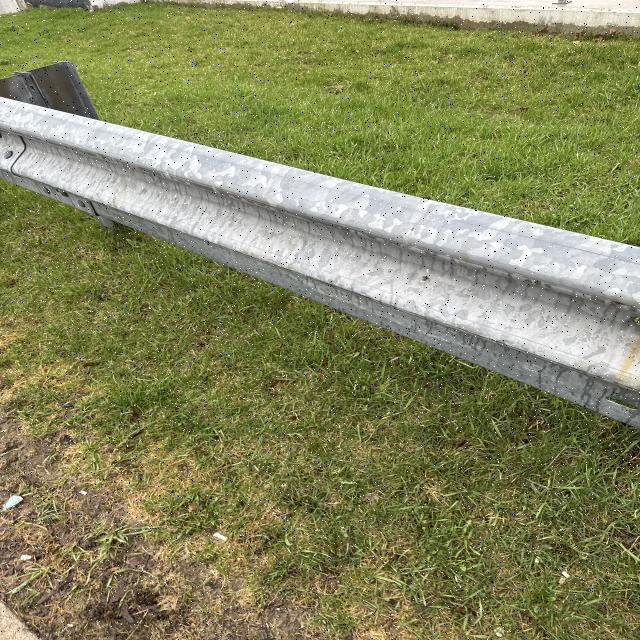Guard rail: (0, 86, 606, 382)
